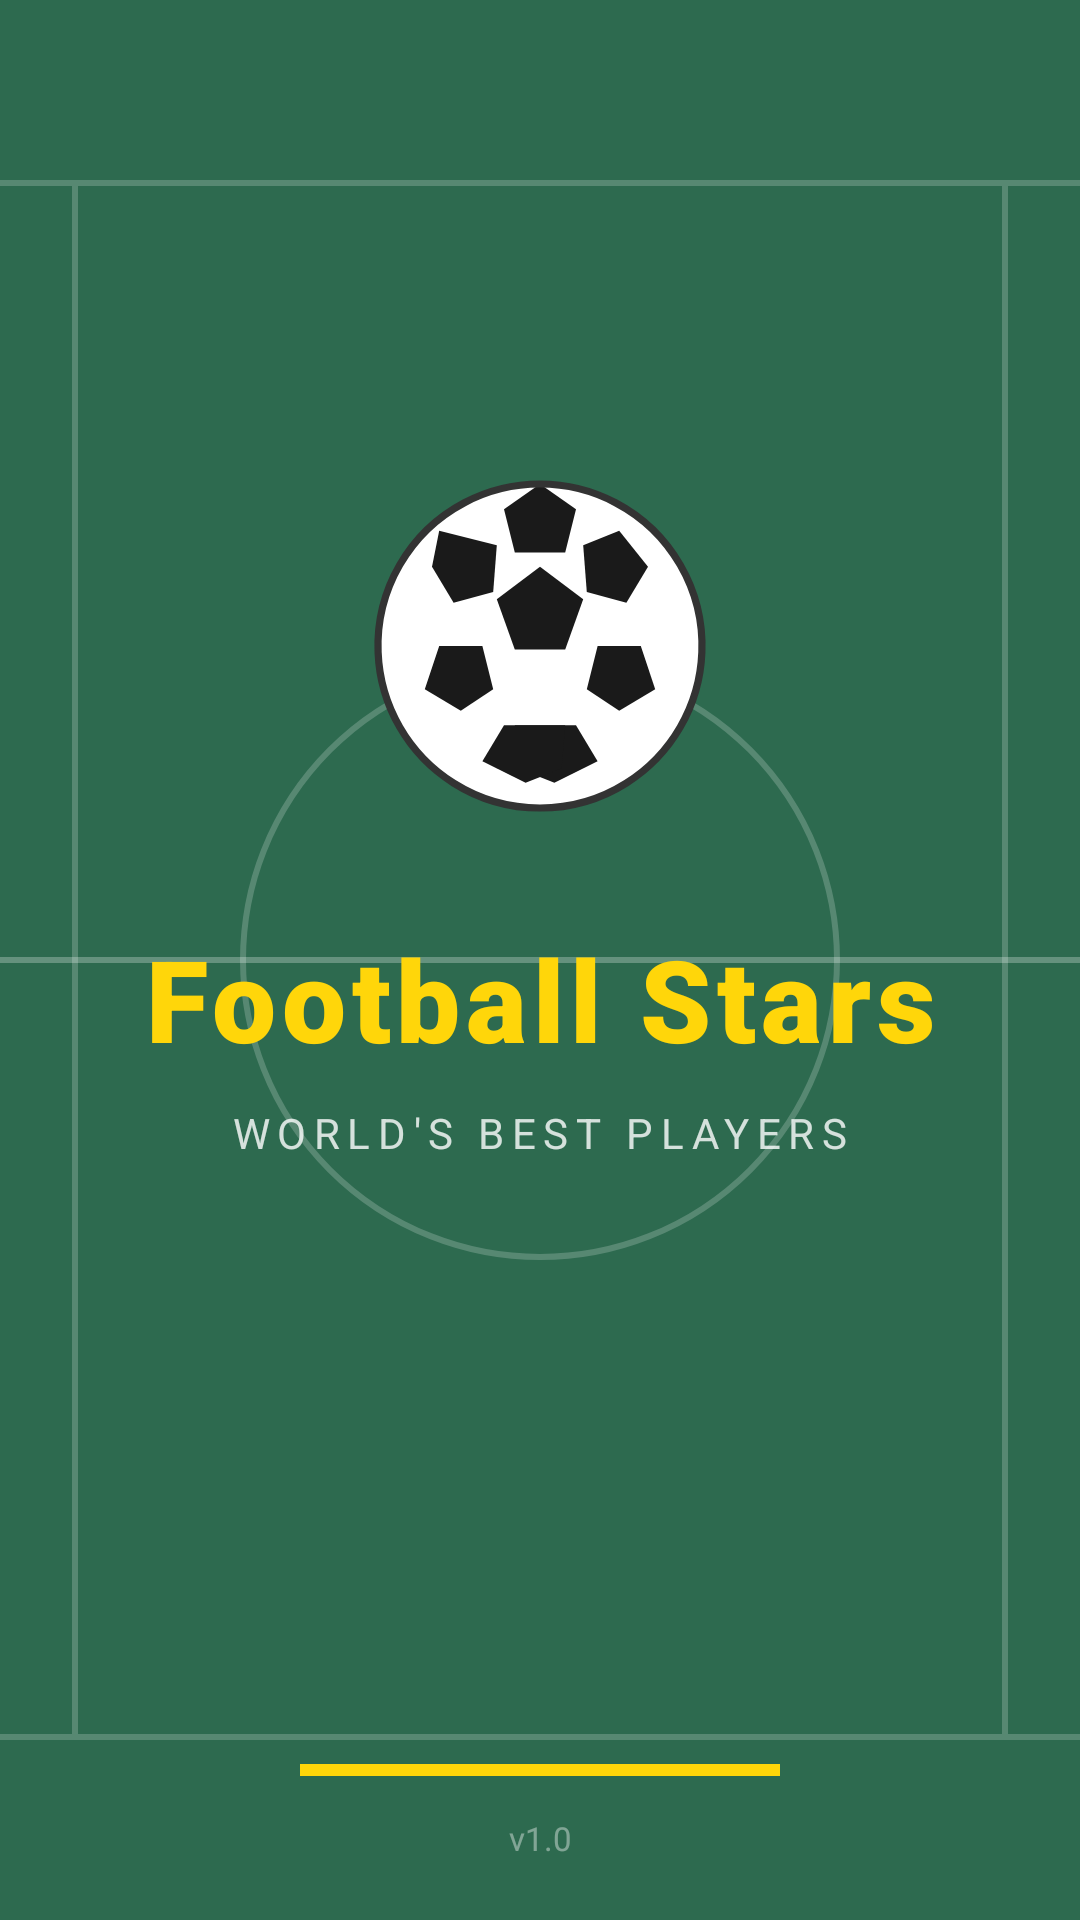

Icons on this 1080*1920 Android screen, each with its box as (x1, y1, x2, y2):
football ball: (360, 480, 720, 812)
